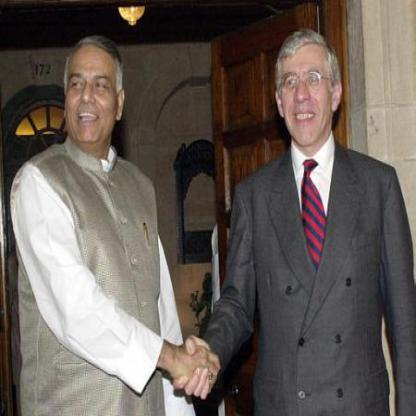face: (64, 42, 121, 147), (281, 37, 335, 147)
